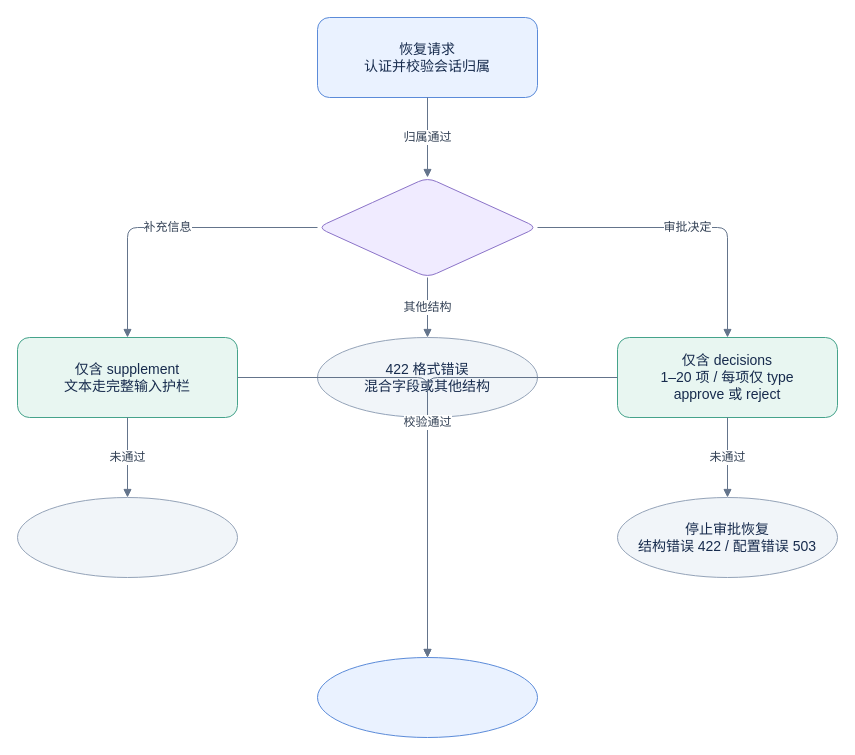
Some shapes in this 855 by 755 pixel diagram are drawn without their labels. Here are the shapes that lost their labels. From the top down, the centre of each, then its label:
At point (427, 227): "resume 输入类型".
At point (127, 537): "停止文本补充 422 / 403 / 503".
At point (427, 697): "Command resume 从原中断点继续".
